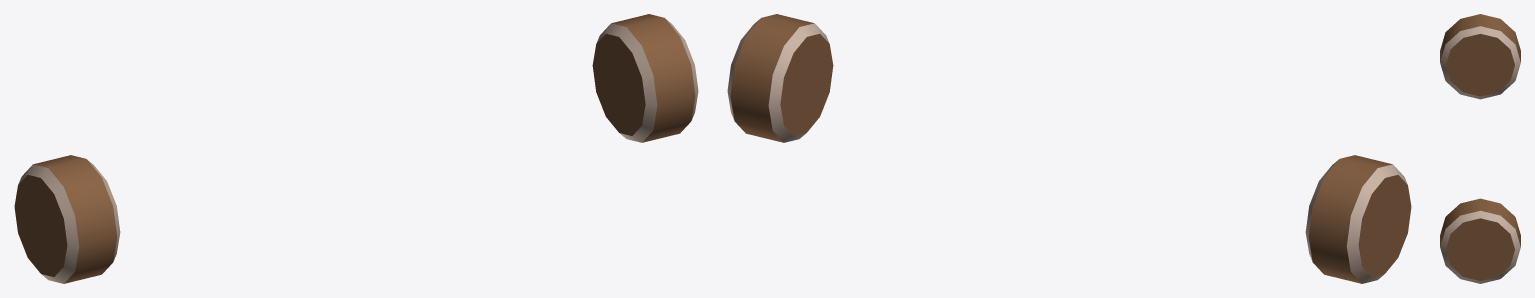
File: obstacle_6_001.fbx
3 renders of one model, left to right at view 1: azimuth 30°, elevation 25°; view 2: azimuth 150°, elevation 25°; view 3: azimuth 270°, elevation 25°, orthographic. The views are drawn at different scales.
Visible parts, largest first — view 1: obstacle_6_001; view 2: obstacle_6_001; view 3: obstacle_6_001.
Boxes of the visible parts, box(x1,y1,x2,y2) form: obstacle_6_001: box(14, 14, 698, 283); obstacle_6_001: box(727, 14, 1411, 283); obstacle_6_001: box(1440, 14, 1520, 283).
Size of the model in its own units: 482 by 81.7 by 81.7.
